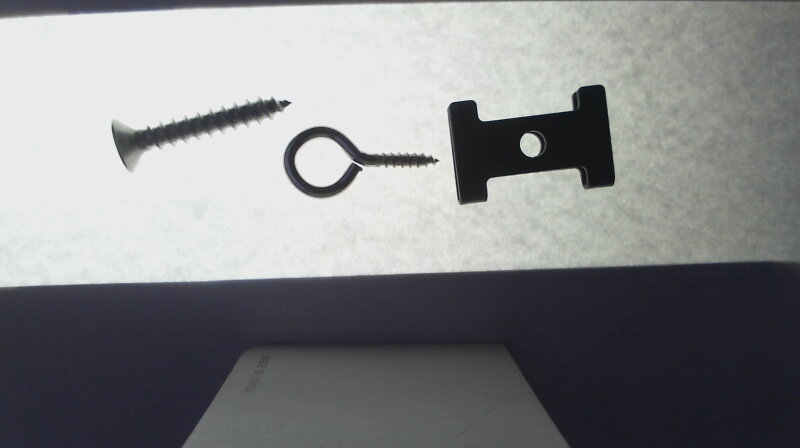O001: (282, 126, 439, 198)
O002: (446, 84, 615, 205)
S001: (110, 97, 289, 174)
